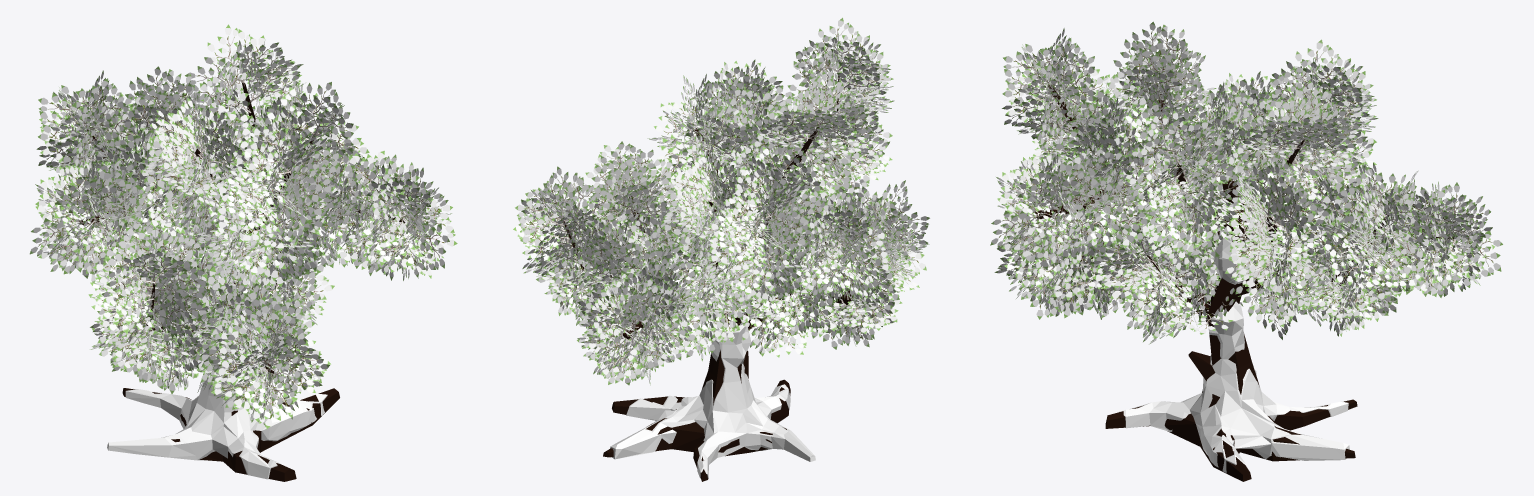
File: Tree_GreenWSnow_02.obj
3 views of the same model, side by side, from view 1: azimuth 30°, elevation 25°; view 2: azimuth 150°, elevation 25°; view 3: azimuth 270°, elevation 25° (orthographic). The views are drawn at different scales.
Visible parts, largest first — view 1: TreeGreenWSnow_02_Circle; view 2: TreeGreenWSnow_02_Circle; view 3: TreeGreenWSnow_02_Circle.
Boxes of the visible parts, box(x1,y1,x2,y2) form: TreeGreenWSnow_02_Circle: box(29, 24, 457, 481); TreeGreenWSnow_02_Circle: box(513, 17, 929, 481); TreeGreenWSnow_02_Circle: box(990, 21, 1502, 481).
Bounding box in the file's own units: 13.44 × 14.6 × 18.14.
